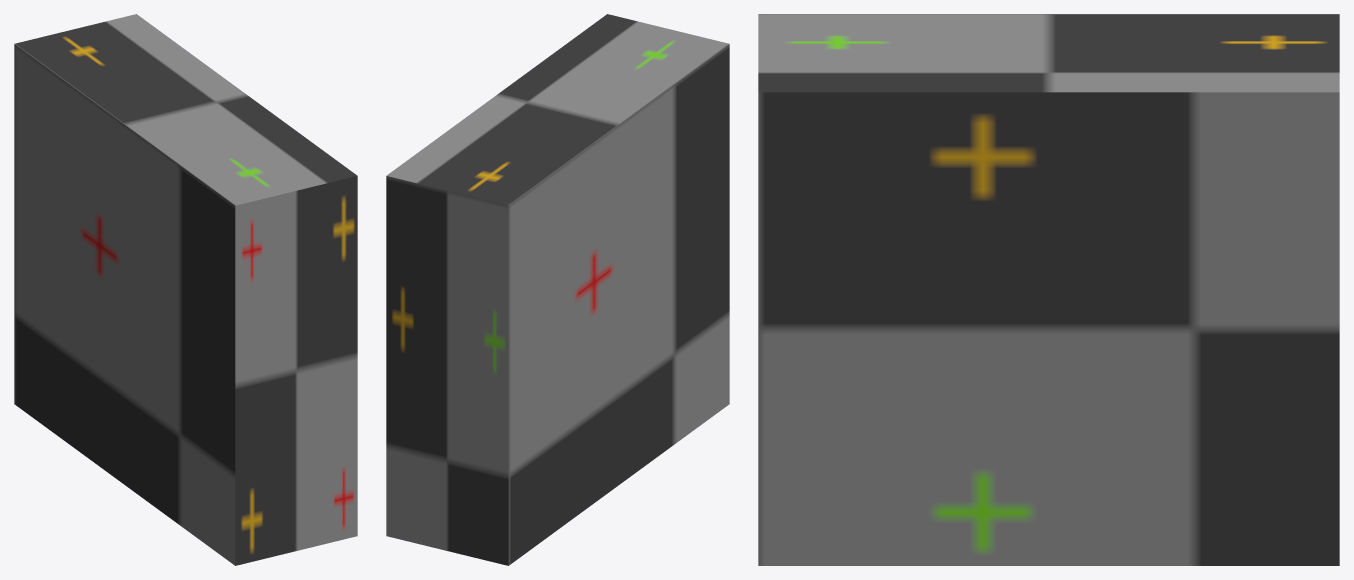
3 views of the same model, side by side, from view 1: azimuth 30°, elevation 25°; view 2: azimuth 150°, elevation 25°; view 3: azimuth 270°, elevation 25° (orthographic). The views are drawn at different scales.
Parts seen in each view (by area): view 1: Cube_074; view 2: Cube_074; view 3: Cube_074.
Part boxes in pixels (x1,y1,x2,y2): Cube_074: [14, 14, 357, 565]; Cube_074: [386, 14, 729, 565]; Cube_074: [758, 14, 1339, 565].
Bounding box in the file's own units: 0.5108 × 1.44 × 1.6.
Materials: 1 (1 with a texture image).
